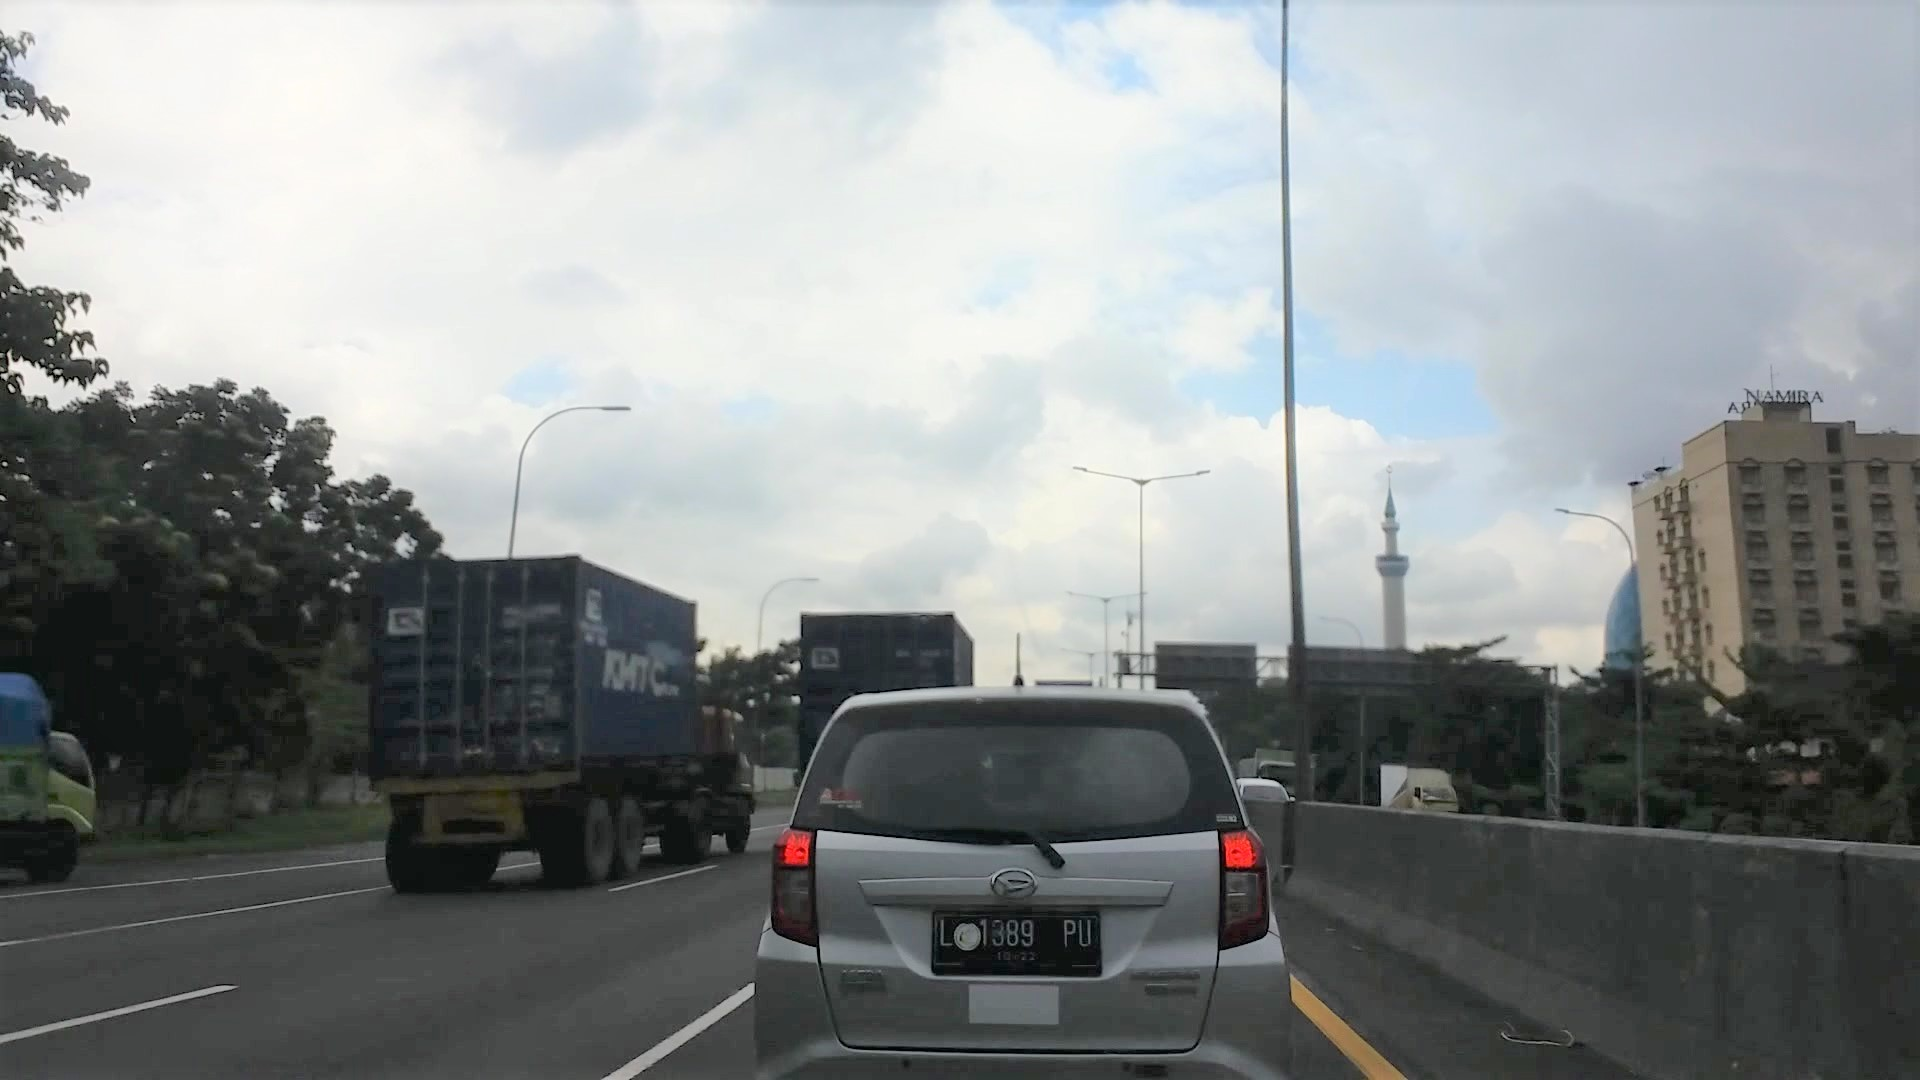plate_positive: (931, 909, 1102, 978)
